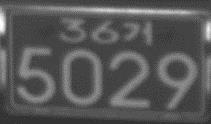0: (60, 48, 104, 107)
2: (109, 49, 151, 110)
3: (59, 15, 86, 44)
5: (16, 46, 55, 105)
6: (91, 18, 119, 44)
9: (156, 51, 198, 111)
거: (122, 18, 152, 45)
